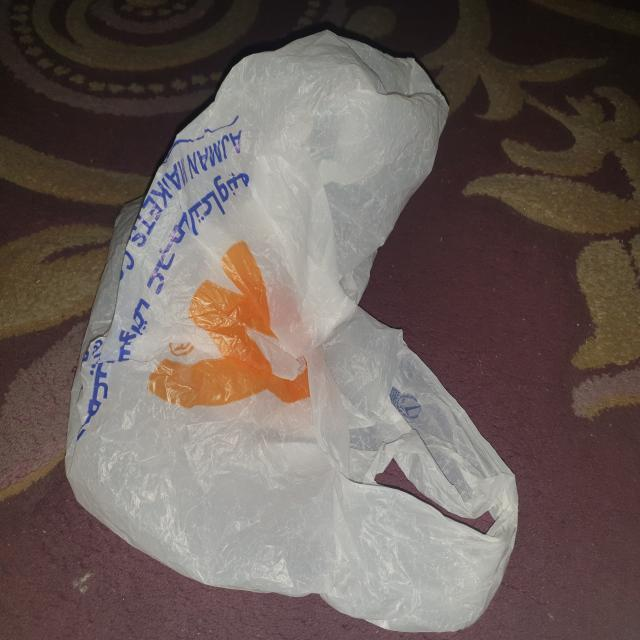Plastic_Bag: (51, 18, 528, 640)
